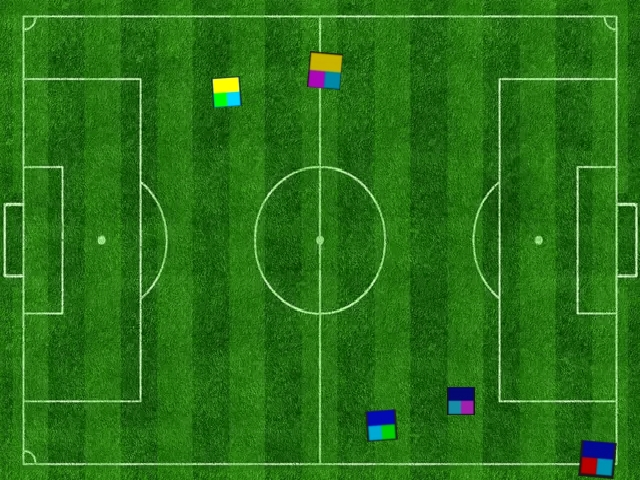pattern14: (211, 76, 242, 108)
pattern2: (578, 440, 617, 479)
pattern20: (307, 51, 343, 90)
pattern7: (365, 409, 398, 442)
pattern8: (447, 387, 475, 415)
